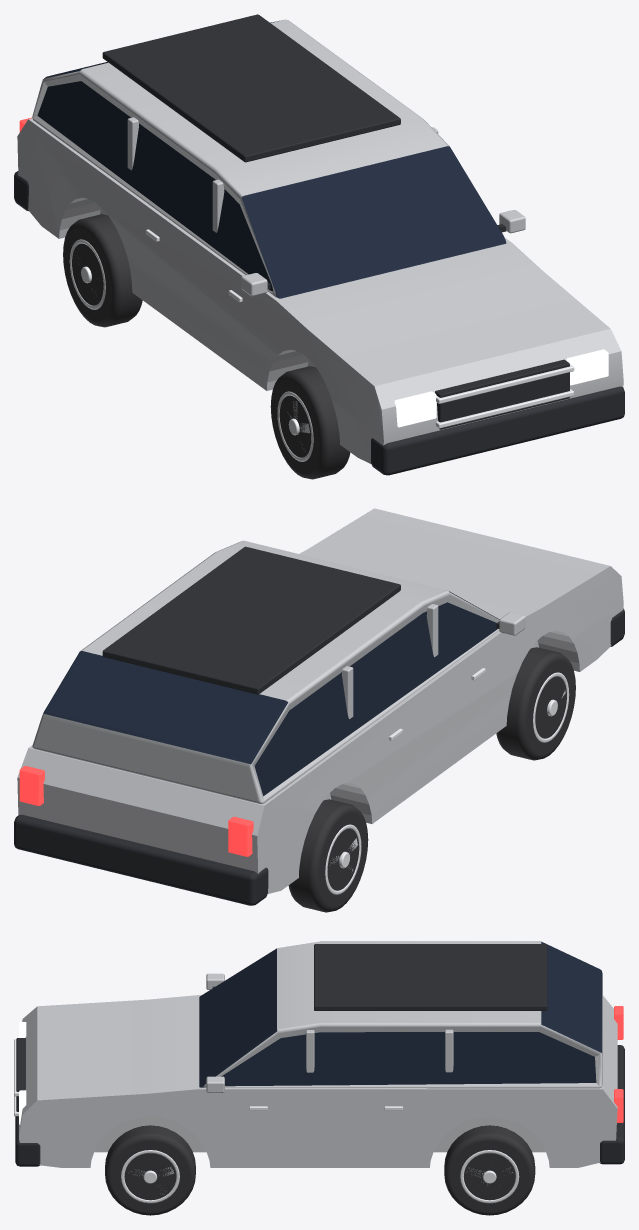
The model's file is wagon.glb.
3 renders of one model, top to bottom at view 1: azimuth 30°, elevation 25°; view 2: azimuth 150°, elevation 25°; view 3: azimuth 270°, elevation 25°, orthographic. The views are drawn at different scales.
Visible parts, largest first — view 1: body_paint, body_trim, wheel_RR, wheel_FR; view 2: body_paint, body_trim, wheel_FR, wheel_RR; view 3: body_paint, body_trim, wheel_RL, wheel_FL.
Part boxes in pixels (x1=…): body_paint: x1=17, y1=19, x2=623, y2=464; body_trim: x1=14, y1=14, x2=624, y2=475; wheel_RR: x1=63, y1=214, x2=142, y2=327; wheel_FR: x1=270, y1=366, x2=350, y2=479; body_paint: x1=17, y1=508, x2=623, y2=893; body_trim: x1=14, y1=546, x2=624, y2=905; wheel_FR: x1=496, y1=647, x2=575, y2=760; wheel_RR: x1=288, y1=799, x2=368, y2=912; body_paint: x1=19, y1=941, x2=617, y2=1167; body_trim: x1=14, y1=941, x2=624, y2=1166; wheel_RL: x1=444, y1=1125, x2=535, y2=1215; wheel_FL: x1=105, y1=1125, x2=195, y2=1215.
Size of the model in its own units: 2.11 by 1.73 by 4.97.
